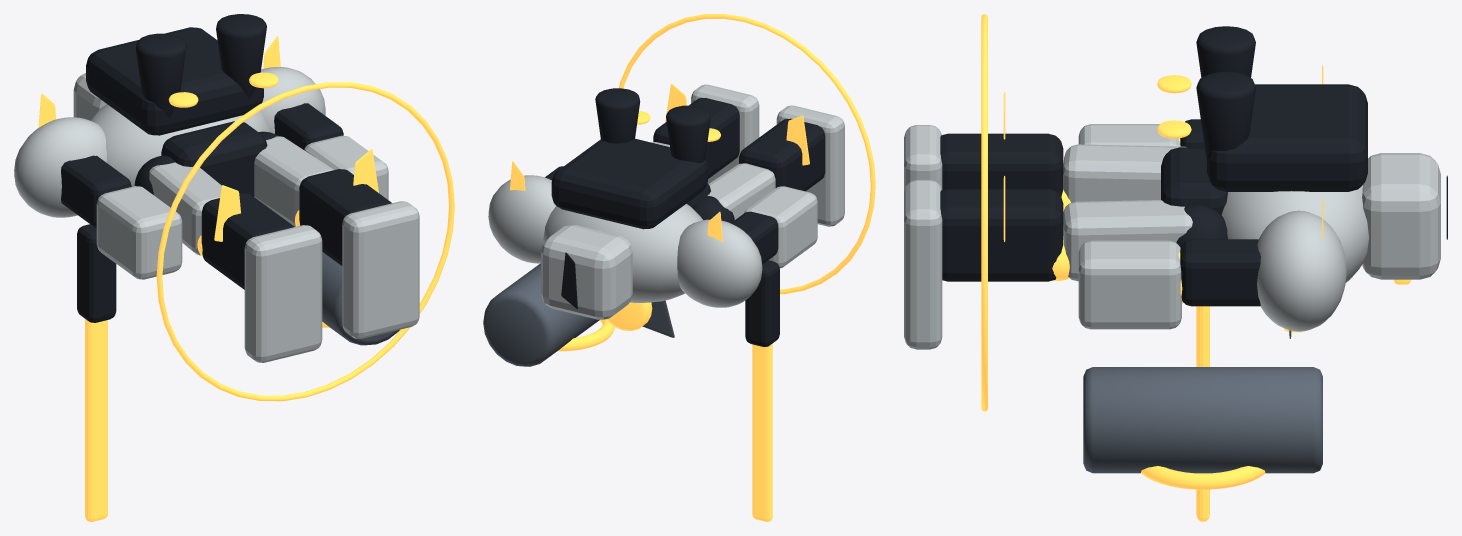
The model's file is siege_player.glb.
3 renders of one model, left to right at view 1: azimuth 30°, elevation 25°; view 2: azimuth 150°, elevation 25°; view 3: azimuth 270°, elevation 25°, orthographic. The views are drawn at different scales.
Parts seen in each view (by area): view 1: foot, foot.001, backpack, forearm, shield-ring, shoulder-shell, ink-energy-blade, waist, lower-leg.001, lower-leg, upper-leg.001, torso (+13 smaller); view 2: backpack, head, fusion-cannon, shoulder-shell, torso, shoulder-shell.001, lower-leg, ink-energy-blade, forearm, foot, shield-ring, blade-hilt (+12 smaller); view 3: fusion-cannon, backpack, lower-leg.001, head, forearm.001, shoulder-shell.001, lower-leg, foot.001, torso, upper-leg, upper-leg.001, upper-arm.001 (+9 smaller).
Part boxes in pixels (x1,y1,x2,y2): foot: [244, 225, 322, 362]; foot.001: [342, 201, 419, 338]; backpack: [86, 27, 263, 135]; forearm: [96, 186, 182, 279]; shield-ring: [156, 82, 454, 401]; shoulder-shell: [14, 117, 106, 217]; ink-energy-blade: [85, 319, 107, 521]; waist: [161, 121, 267, 196]; lower-leg.001: [299, 169, 391, 265]; lower-leg: [201, 193, 294, 289]; upper-leg.001: [254, 136, 333, 226]; torso: [90, 104, 269, 186]; backpack: [551, 138, 707, 229]; head: [541, 225, 632, 319]; fusion-cannon: [483, 263, 599, 366]; shoulder-shell: [677, 219, 762, 307]; torso: [543, 204, 702, 302]; shoulder-shell.001: [488, 175, 555, 263]; lower-leg: [739, 118, 825, 191]; ink-energy-blade: [752, 343, 772, 521]; forearm: [744, 186, 817, 268]; foot: [776, 105, 844, 226]; shield-ring: [619, 14, 875, 294]; blade-hilt: [745, 260, 779, 346]; fusion-cannon: [1083, 367, 1322, 473]; backpack: [1207, 84, 1367, 191]; lower-leg.001: [940, 189, 1063, 281]; head: [1362, 153, 1440, 279]; forearm.001: [1078, 240, 1181, 329]; shoulder-shell.001: [1257, 210, 1346, 331]; lower-leg: [940, 133, 1063, 196]; foot.001: [904, 180, 942, 349]; torso: [1221, 185, 1368, 282]; upper-leg: [1063, 144, 1186, 202]; upper-leg.001: [1063, 200, 1192, 281]; upper-arm.001: [1180, 239, 1260, 306].
Size of the model in its own units: 2.23 by 3.17 by 2.84.
